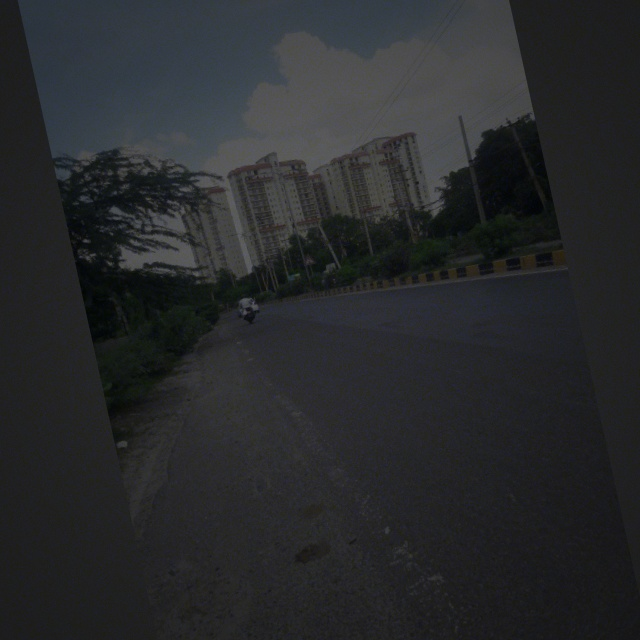Gap_in_Median: (299, 250, 317, 268)
